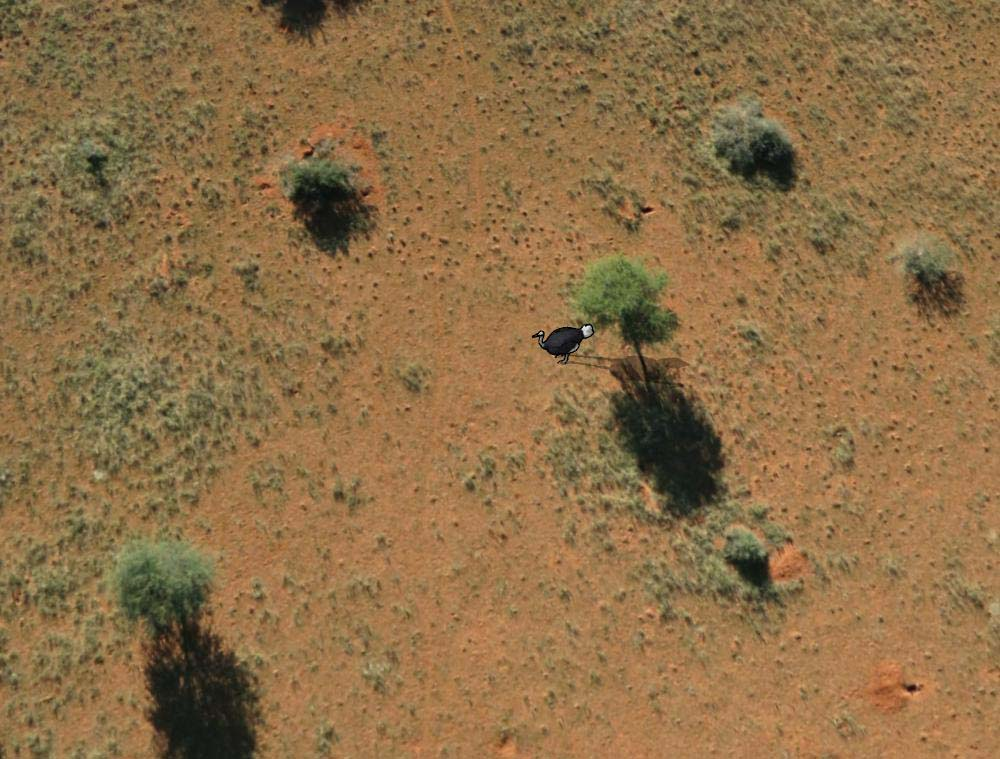springbok: (530, 320, 594, 369)
